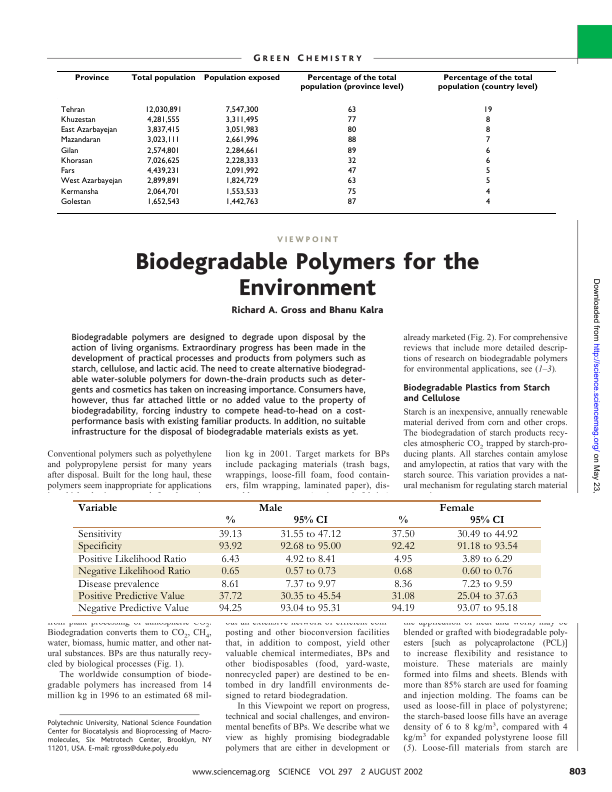borderless: (56, 69, 556, 213), (73, 498, 541, 615)
cell: (299, 74, 404, 92), (437, 74, 538, 92), (77, 566, 191, 578), (77, 603, 189, 615), (77, 553, 187, 565), (77, 591, 185, 603), (77, 578, 159, 590), (279, 529, 341, 541), (456, 529, 518, 541), (279, 541, 341, 553), (456, 541, 518, 553), (279, 591, 341, 603), (456, 591, 518, 603), (279, 603, 341, 615), (456, 603, 518, 615), (203, 74, 280, 83), (284, 553, 336, 565), (461, 553, 513, 565), (284, 566, 336, 578), (461, 566, 513, 578), (284, 578, 336, 590), (461, 578, 513, 590), (130, 74, 196, 83), (59, 177, 123, 186), (77, 529, 122, 541), (77, 541, 122, 553), (59, 126, 118, 135), (77, 502, 118, 512), (59, 187, 99, 197), (144, 105, 182, 115), (59, 136, 101, 145), (59, 115, 96, 125), (438, 502, 474, 512), (224, 105, 259, 115), (224, 115, 259, 125), (224, 146, 259, 156), (224, 156, 259, 166), (224, 187, 259, 197), (224, 197, 259, 207), (146, 115, 180, 125), (146, 146, 180, 156), (59, 156, 93, 166), (146, 156, 180, 166), (146, 187, 180, 197), (146, 197, 180, 207), (292, 515, 328, 524), (469, 515, 505, 524), (59, 197, 91, 207), (74, 74, 109, 83), (224, 126, 259, 135), (224, 136, 259, 145), (224, 167, 259, 176), (224, 177, 259, 186), (146, 126, 180, 135), (146, 136, 180, 145), (146, 167, 180, 176), (146, 177, 180, 186), (217, 529, 242, 541), (390, 529, 415, 541), (217, 541, 242, 553), (390, 541, 415, 553), (217, 591, 242, 603), (390, 591, 415, 603), (217, 603, 242, 615), (390, 603, 415, 615), (257, 502, 283, 512), (59, 105, 85, 115), (220, 553, 240, 565), (220, 566, 240, 578), (220, 578, 240, 590), (393, 553, 412, 565), (393, 566, 412, 578), (393, 578, 412, 590), (59, 146, 79, 156), (59, 167, 75, 176), (346, 105, 357, 115), (482, 105, 493, 115), (346, 115, 357, 125), (346, 146, 357, 156), (346, 156, 357, 166), (346, 187, 357, 197), (346, 197, 357, 207), (224, 515, 235, 524), (397, 515, 408, 524), (346, 126, 357, 135), (346, 136, 357, 145), (346, 167, 357, 176), (346, 177, 357, 186), (484, 156, 491, 166), (484, 197, 491, 207), (484, 126, 491, 135), (484, 136, 491, 145), (484, 167, 491, 176), (484, 177, 491, 186), (484, 115, 490, 125), (484, 146, 490, 156), (484, 187, 490, 197)
